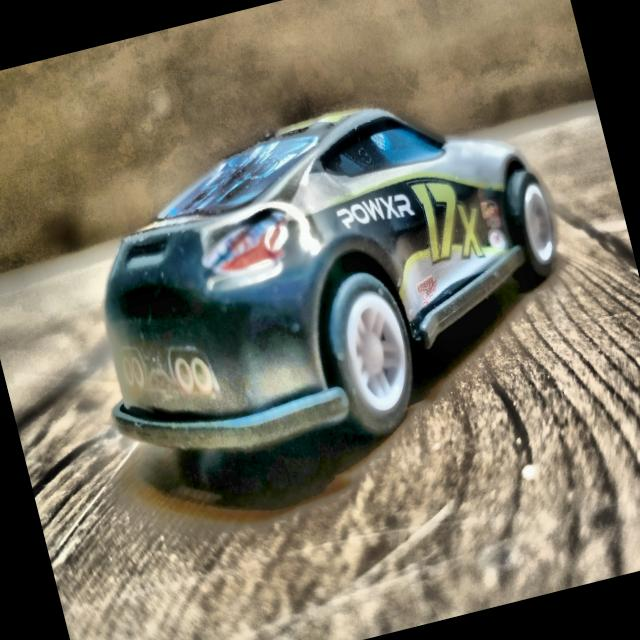Car: (56, 70, 591, 494)
